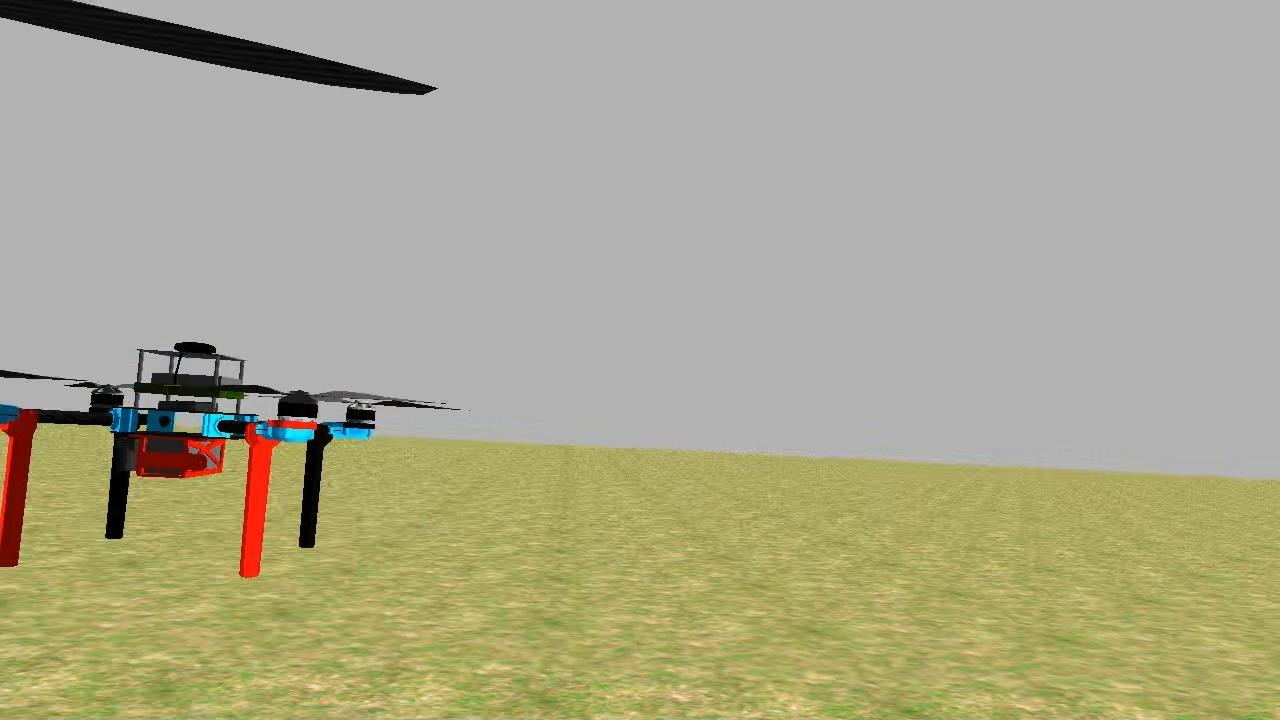UAV: (0, 331, 400, 586)
